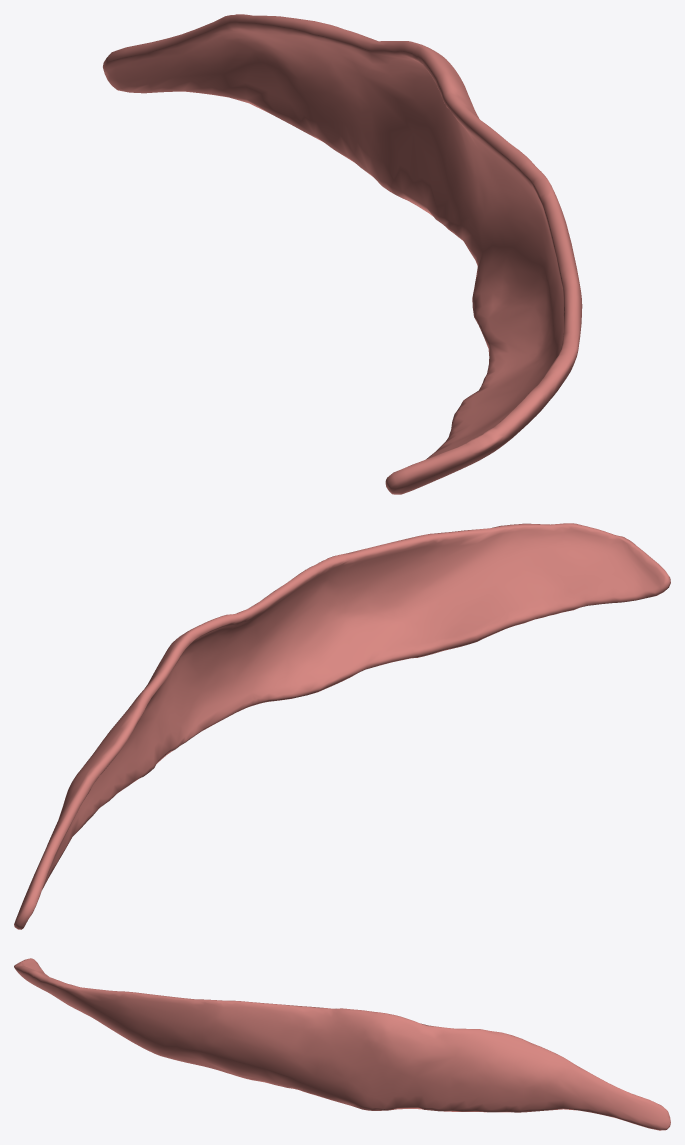
3 renders of one model, top to bottom at view 1: azimuth 30°, elevation 25°; view 2: azimuth 150°, elevation 25°; view 3: azimuth 270°, elevation 25°, orthographic. The views are drawn at different scales.
Parts seen in each view (by area): view 1: ZA_b3b9d2e5190bca57; view 2: ZA_b3b9d2e5190bca57; view 3: ZA_b3b9d2e5190bca57.
Boxes of the visible parts, x1,y1,x2,y2 form: ZA_b3b9d2e5190bca57: [103, 14, 582, 494]; ZA_b3b9d2e5190bca57: [14, 523, 670, 929]; ZA_b3b9d2e5190bca57: [14, 958, 670, 1130].
Size of the model in its own units: 0.0145 by 0.0081 by 0.039.
